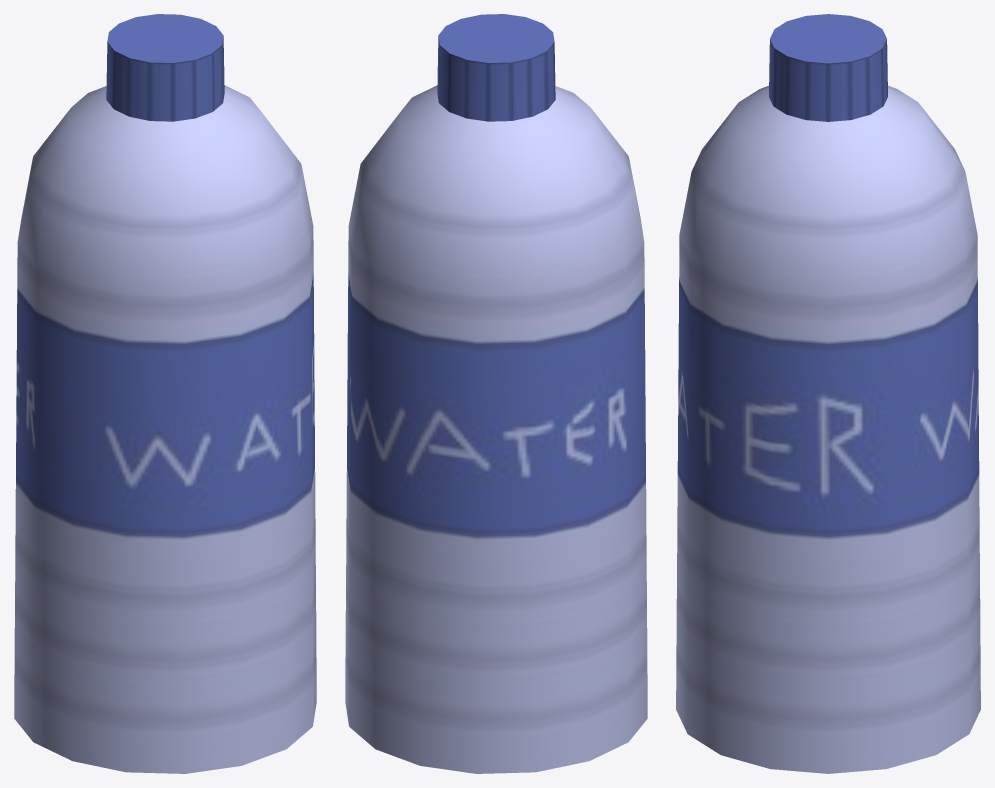
Rendered from Plastic Bottle Proper.fbx.
3 views of the same model, side by side, from view 1: azimuth 30°, elevation 25°; view 2: azimuth 150°, elevation 25°; view 3: azimuth 270°, elevation 25° (orthographic).
Parts seen in each view (by area): view 1: Cylinder; view 2: Cylinder; view 3: Cylinder.
Part boxes in pixels (left/top/right/bottom): Cylinder: left=14, top=14, right=316, bottom=773; Cylinder: left=345, top=14, right=647, bottom=773; Cylinder: left=676, top=14, right=980, bottom=773.
Size of the model in its own units: 0.3431 by 0.8329 by 0.3431.
